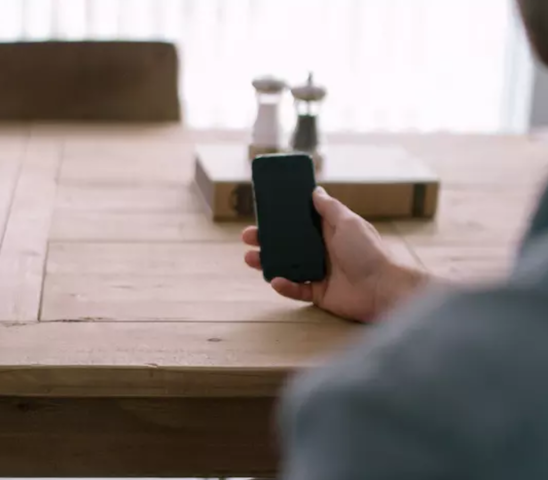books: (185, 134, 456, 233)
phone: (249, 151, 339, 291)
